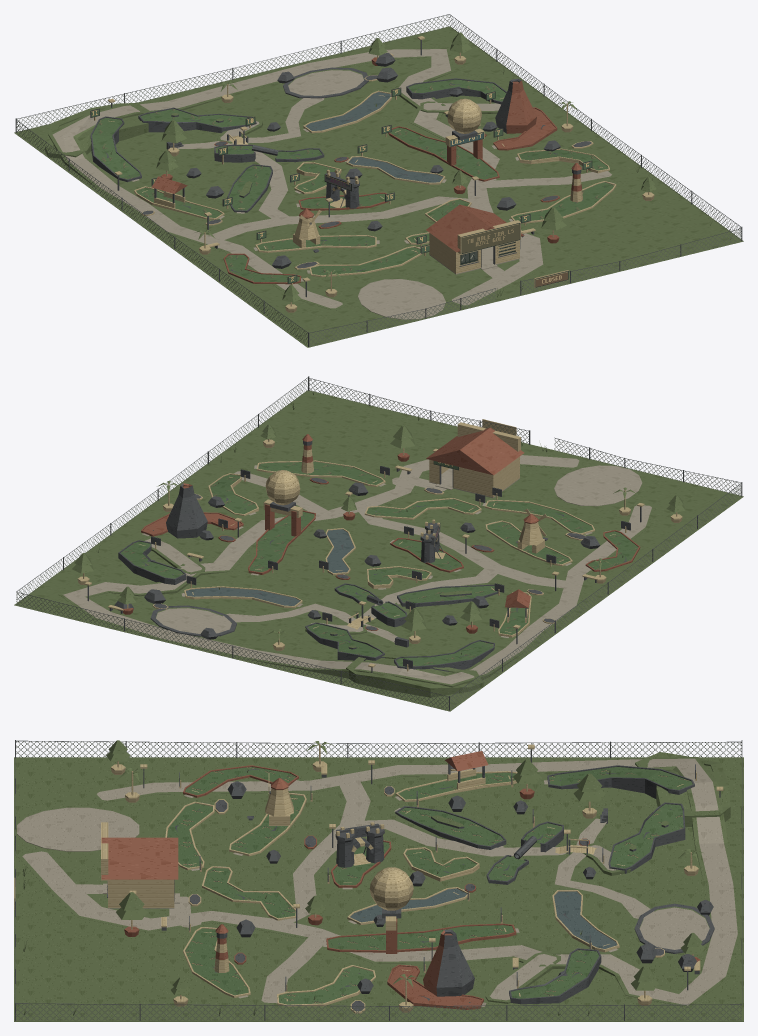
The model's file is thimble-trails-2006-far.glb.
The picture shows the model from 3 angles, top to bottom: view 1: azimuth 30°, elevation 25°; view 2: azimuth 150°, elevation 25°; view 3: azimuth 270°, elevation 25°; orthographic projection. The views are drawn at different scales.
Parts seen in each view (by area): view 1: lot, putting_lanes, course_obstacles, ticket_hut, statue_pad, sign_name; view 2: lot, putting_lanes, ticket_hut, course_obstacles, statue_pad; view 3: lot, putting_lanes, course_obstacles, ticket_hut, statue_pad, Gate turret.001, Covered bridge roof, Gate turret.
Part boxes in pixels (left/top/right/bottom): lot: left=14, top=14, right=743, bottom=347; putting_lanes: left=90, top=78, right=616, bottom=285; course_obstacles: left=293, top=78, right=582, bottom=247; ticket_hut: left=426, top=204, right=524, bottom=274; statue_pad: left=358, top=279, right=445, bottom=319; sign_name: left=461, top=223, right=520, bottom=253; lot: left=14, top=376, right=743, bottom=711; putting_lanes: left=118, top=460, right=640, bottom=671; ticket_hut: left=426, top=422, right=524, bottom=498; course_obstacles: left=166, top=434, right=544, bottom=553; statue_pad: left=554, top=465, right=642, bottom=506; lot: left=14, top=740, right=743, bottom=1021; putting_lanes: left=165, top=764, right=696, bottom=1009; course_obstacles: left=214, top=778, right=474, bottom=996; ticket_hut: left=101, top=822, right=179, bottom=908; statue_pad: left=17, top=807, right=139, bottom=851; Gate turret.001: left=335, top=831, right=354, bottom=867; Covered bridge roof: left=445, top=751, right=488, bottom=771; Gate turret: left=365, top=827, right=384, bottom=863.
Size of what is drawn, in the model's own units: 60 by 7.98 by 70.
Materials: 11 (11 with a texture image).
